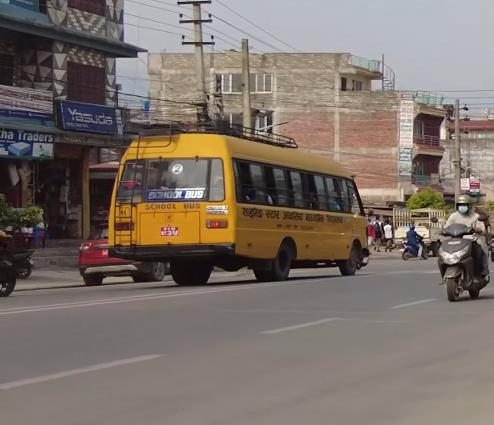school_bus: (106, 116, 374, 284)
scooter: (428, 214, 494, 303), (401, 236, 430, 262)
